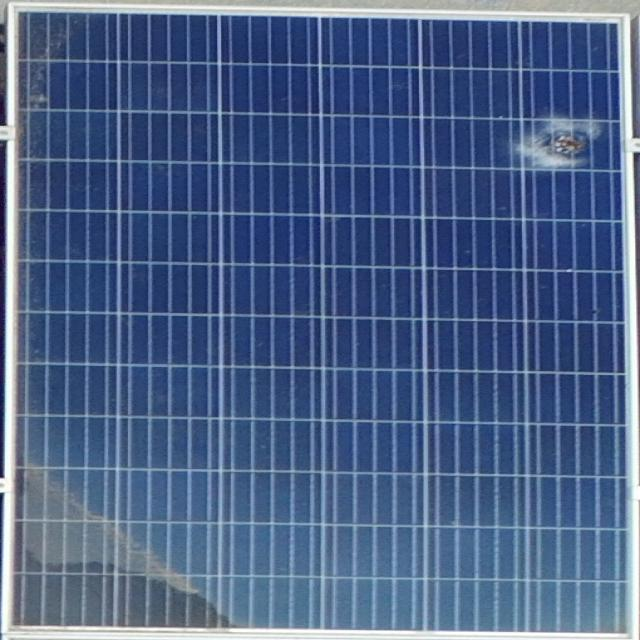Dust: (19, 438, 252, 640), (12, 9, 92, 160)
bird-droppings: (512, 112, 615, 170)
